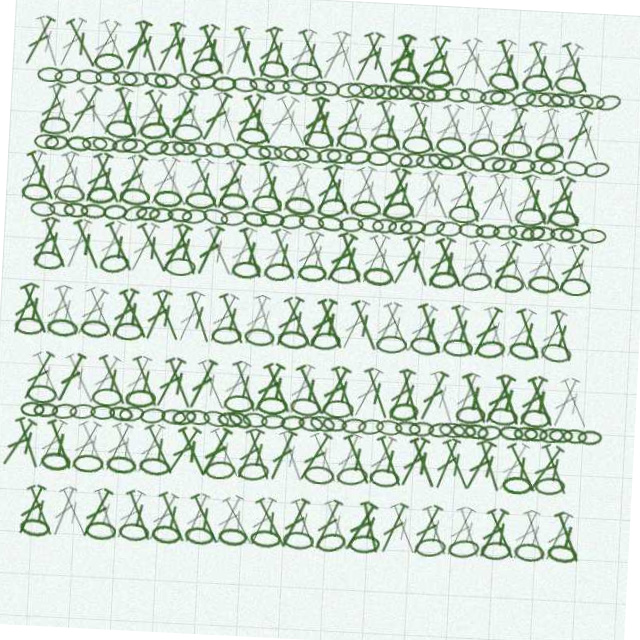chain: (524, 128, 557, 152), (310, 195, 343, 219), (458, 262, 491, 285), (326, 530, 359, 553), (178, 62, 211, 84), (475, 62, 508, 84), (376, 196, 409, 218), (541, 330, 574, 352), (96, 263, 128, 285), (410, 330, 442, 352), (476, 330, 508, 352), (509, 330, 541, 352), (230, 412, 259, 436), (458, 129, 491, 150), (129, 129, 161, 150), (327, 129, 359, 150), (344, 464, 376, 485), (426, 531, 458, 552), (459, 531, 491, 552), (509, 62, 540, 83), (80, 196, 111, 217), (393, 397, 424, 418), (558, 531, 589, 552), (162, 77, 190, 100), (414, 211, 442, 234), (542, 63, 574, 83), (47, 197, 79, 217), (542, 197, 574, 217), (327, 264, 359, 284), (47, 331, 79, 351), (278, 331, 310, 351), (294, 398, 326, 418), (146, 465, 178, 485), (212, 465, 244, 485), (245, 465, 277, 485), (311, 465, 343, 485), (410, 63, 441, 83), (278, 197, 309, 217), (30, 264, 61, 284), (261, 264, 292, 284), (426, 264, 457, 284), (492, 264, 523, 284), (311, 331, 342, 351), (30, 398, 61, 418), (113, 465, 144, 485), (30, 532, 61, 552), (162, 532, 193, 552), (195, 532, 226, 552), (499, 78, 527, 100), (116, 212, 144, 234), (418, 145, 447, 166), (196, 212, 225, 233), (509, 197, 541, 216), (525, 264, 557, 283), (542, 465, 574, 484), (129, 532, 161, 551), (525, 532, 557, 551), (278, 63, 309, 82), (30, 130, 61, 149), (96, 130, 127, 149), (113, 197, 144, 216), (360, 264, 391, 283), (212, 331, 243, 350), (245, 331, 276, 350), (129, 398, 160, 417), (492, 398, 523, 417), (525, 398, 556, 417), (377, 465, 408, 484), (96, 532, 127, 551), (261, 532, 292, 551), (294, 532, 325, 551), (360, 532, 391, 551), (492, 532, 523, 551), (583, 78, 611, 99), (451, 145, 479, 166), (514, 212, 542, 233), (246, 63, 276, 82), (378, 63, 408, 82), (361, 130, 391, 149), (427, 130, 457, 149), (213, 197, 243, 216), (81, 331, 111, 350), (460, 398, 490, 417), (48, 465, 78, 484), (229, 532, 259, 551), (397, 79, 425, 99), (287, 146, 315, 166), (575, 146, 603, 166), (207, 414, 235, 434), (162, 131, 193, 149), (228, 131, 259, 149), (294, 131, 325, 149), (393, 131, 424, 149), (492, 131, 523, 149), (179, 198, 210, 216), (344, 198, 375, 216), (443, 198, 474, 216), (162, 265, 193, 283), (558, 265, 589, 283), (377, 332, 408, 350), (96, 399, 127, 417), (228, 399, 259, 417), (261, 399, 292, 417), (327, 399, 358, 417), (80, 466, 111, 484), (81, 64, 111, 82), (130, 79, 157, 99), (134, 146, 161, 166), (390, 146, 417, 166), (15, 198, 45, 216), (147, 198, 177, 216), (246, 198, 276, 216), (229, 265, 259, 283), (295, 265, 325, 283), (15, 332, 45, 350), (114, 332, 144, 350), (444, 332, 474, 350), (176, 414, 203, 434), (510, 466, 540, 484), (236, 79, 264, 98), (386, 79, 414, 98), (467, 79, 495, 98), (102, 146, 130, 165), (264, 146, 292, 165), (336, 146, 364, 165), (531, 146, 559, 165), (302, 79, 329, 98), (214, 146, 241, 165), (472, 146, 499, 165), (123, 414, 150, 433), (314, 414, 341, 433), (144, 415, 172, 433), (42, 80, 69, 98), (324, 80, 351, 98), (413, 80, 440, 98), (501, 147, 528, 165), (176, 214, 203, 232), (215, 214, 242, 232), (293, 214, 320, 232), (312, 214, 339, 232), (382, 214, 409, 232), (56, 415, 83, 433), (363, 415, 390, 433), (289, 80, 315, 98), (349, 80, 375, 98), (35, 147, 61, 165), (178, 147, 204, 165), (379, 147, 405, 165), (483, 147, 509, 165), (554, 147, 580, 165), (237, 214, 263, 232), (274, 214, 300, 232), (113, 415, 139, 433), (285, 415, 311, 433), (303, 415, 329, 433), (433, 415, 459, 433), (482, 415, 508, 433), (178, 80, 205, 97), (270, 80, 297, 97), (335, 80, 362, 97), (448, 80, 475, 97), (514, 80, 541, 97), (526, 80, 553, 97), (567, 80, 594, 97), (236, 147, 263, 164), (43, 214, 70, 231), (352, 214, 379, 231), (431, 214, 458, 231), (503, 214, 530, 231), (74, 415, 101, 432), (444, 415, 471, 432), (100, 80, 126, 97), (375, 80, 401, 97), (538, 80, 564, 97), (83, 147, 109, 164), (163, 147, 189, 164), (196, 147, 222, 164), (249, 147, 275, 164), (308, 147, 334, 164), (407, 147, 433, 164), (430, 147, 456, 164), (97, 214, 123, 231), (130, 214, 156, 231), (190, 415, 216, 432), (247, 415, 273, 432), (327, 415, 353, 432), (456, 415, 482, 432), (469, 415, 495, 432), (504, 415, 530, 432), (544, 415, 570, 432), (110, 81, 137, 97), (151, 148, 178, 164), (521, 148, 548, 164), (381, 416, 408, 432), (64, 81, 90, 97), (220, 81, 246, 97), (253, 81, 279, 97), (478, 81, 504, 97), (57, 148, 83, 164), (75, 215, 101, 231), (143, 215, 169, 231), (395, 215, 421, 231), (453, 215, 479, 231), (470, 215, 496, 231), (222, 416, 248, 432), (346, 416, 372, 432), (400, 416, 426, 432), (414, 416, 440, 432), (83, 81, 108, 97), (142, 81, 167, 97), (200, 81, 225, 97), (362, 81, 387, 97), (25, 215, 50, 231), (334, 215, 359, 231), (367, 215, 392, 231), (488, 215, 513, 231), (555, 215, 580, 231), (38, 416, 63, 432), (166, 416, 191, 432), (266, 416, 291, 432), (583, 416, 608, 432), (25, 81, 51, 96), (73, 148, 99, 163), (275, 148, 301, 163), (318, 148, 344, 163), (525, 215, 551, 230), (576, 215, 602, 230), (433, 81, 458, 96), (557, 81, 582, 96), (25, 148, 50, 163), (113, 148, 138, 163), (358, 148, 383, 163), (58, 215, 83, 230), (162, 215, 187, 230), (255, 215, 280, 230), (545, 215, 570, 230), (25, 416, 50, 431), (95, 416, 120, 431), (519, 416, 544, 431), (529, 416, 554, 431), (554, 416, 579, 431), (568, 416, 593, 431)
double: (61, 96, 106, 149), (3, 431, 46, 485), (531, 431, 574, 485), (47, 29, 89, 83), (169, 431, 211, 485), (228, 498, 270, 552), (261, 498, 303, 552), (532, 28, 573, 83), (119, 95, 160, 150), (146, 162, 187, 217), (129, 229, 170, 284), (212, 430, 253, 485), (301, 430, 342, 485), (350, 497, 391, 552), (251, 96, 292, 150), (54, 95, 94, 150), (163, 95, 203, 150), (262, 95, 302, 150), (417, 95, 457, 150), (170, 162, 210, 217), (196, 229, 236, 284), (384, 229, 424, 284), (450, 229, 490, 284), (493, 229, 533, 284), (526, 229, 566, 284), (549, 229, 589, 284), (114, 296, 154, 351), (279, 296, 319, 351), (500, 296, 540, 351), (21, 363, 61, 418), (31, 363, 71, 418), (64, 363, 104, 418), (71, 430, 111, 485), (147, 430, 187, 485), (500, 430, 540, 485), (510, 430, 550, 485), (64, 497, 104, 552), (196, 497, 236, 552), (71, 29, 111, 83), (444, 29, 484, 83), (71, 297, 111, 351), (401, 297, 441, 351), (87, 364, 127, 418), (5, 28, 44, 83), (81, 28, 120, 83), (170, 28, 209, 83), (401, 28, 440, 83), (467, 28, 506, 83), (87, 95, 126, 150), (186, 95, 225, 150), (219, 95, 258, 150), (81, 162, 120, 217), (137, 162, 176, 217), (180, 162, 219, 217), (312, 162, 351, 217), (345, 162, 384, 217), (411, 162, 450, 217), (434, 162, 473, 217), (467, 162, 506, 217), (533, 162, 572, 217), (153, 229, 192, 284), (361, 229, 400, 284), (15, 296, 54, 351), (81, 296, 120, 351), (203, 296, 242, 351), (378, 296, 417, 351), (97, 363, 136, 418), (196, 363, 235, 418), (219, 363, 258, 418), (252, 363, 291, 418), (262, 363, 301, 418), (295, 363, 334, 418), (318, 363, 357, 418), (351, 363, 390, 418), (483, 363, 522, 418), (559, 363, 598, 418), (38, 430, 77, 485), (81, 430, 120, 485), (114, 430, 153, 485), (203, 430, 242, 485), (312, 430, 351, 485), (467, 430, 506, 485), (87, 497, 126, 552), (120, 497, 159, 552), (493, 497, 532, 552), (130, 96, 169, 150), (229, 96, 268, 150), (15, 163, 54, 217), (97, 230, 136, 284), (318, 230, 357, 284), (180, 431, 219, 485), (153, 498, 192, 552), (280, 28, 318, 83), (303, 28, 341, 83), (336, 28, 374, 83), (412, 28, 450, 83), (511, 28, 549, 83), (544, 28, 582, 83), (395, 95, 433, 150), (461, 95, 499, 150), (49, 162, 87, 217), (105, 162, 143, 217), (214, 162, 252, 217), (237, 162, 275, 217), (270, 162, 308, 217), (369, 162, 407, 217), (379, 162, 417, 217), (121, 229, 159, 284), (253, 229, 291, 284), (286, 229, 324, 284), (352, 229, 390, 284), (428, 229, 466, 284), (461, 229, 499, 284), (517, 229, 555, 284), (148, 296, 186, 351), (346, 296, 384, 351), (435, 296, 473, 351), (468, 296, 506, 351), (154, 363, 192, 418), (105, 430, 143, 485), (346, 430, 384, 485), (369, 430, 407, 485), (402, 430, 440, 485), (445, 430, 483, 485), (32, 497, 70, 552), (164, 497, 202, 552), (329, 497, 367, 552), (395, 497, 433, 552), (418, 497, 456, 552), (451, 497, 489, 552), (484, 497, 522, 552), (138, 28, 175, 83), (181, 28, 218, 83), (247, 28, 284, 83), (270, 28, 307, 83), (346, 28, 383, 83), (369, 28, 406, 83), (435, 28, 472, 83), (32, 95, 69, 150), (154, 95, 191, 150), (319, 95, 356, 150), (352, 95, 389, 150), (362, 95, 399, 150), (385, 95, 422, 150), (428, 95, 465, 150), (451, 95, 488, 150), (72, 162, 109, 217), (204, 162, 241, 217), (402, 162, 439, 217), (478, 162, 515, 217), (511, 162, 548, 217), (544, 162, 581, 217), (65, 229, 102, 284), (220, 229, 257, 284), (263, 229, 300, 284), (395, 229, 432, 284), (484, 229, 521, 284), (560, 229, 597, 284), (49, 296, 86, 351), (105, 296, 142, 351), (214, 296, 251, 351), (270, 296, 307, 351), (313, 296, 350, 351), (369, 296, 406, 351), (534, 296, 571, 351), (55, 363, 92, 418), (131, 363, 168, 418), (164, 363, 201, 418), (187, 363, 224, 418), (418, 363, 455, 418), (461, 363, 498, 418), (517, 363, 554, 418), (527, 363, 564, 418), (49, 430, 86, 485), (138, 430, 175, 485), (379, 430, 416, 485), (412, 430, 449, 485), (544, 430, 581, 485), (131, 497, 168, 552), (220, 497, 257, 552), (286, 497, 323, 552), (296, 497, 333, 552), (319, 497, 356, 552), (428, 497, 465, 552), (517, 497, 554, 552), (550, 497, 587, 552), (560, 497, 597, 552), (40, 28, 76, 83), (314, 28, 350, 83), (198, 95, 234, 150), (485, 95, 521, 150), (116, 162, 152, 217), (281, 162, 317, 217), (337, 162, 373, 217), (23, 229, 59, 284), (33, 229, 69, 284), (89, 229, 125, 284), (188, 229, 224, 284), (297, 229, 333, 284), (330, 229, 366, 284), (419, 229, 455, 284), (139, 296, 175, 351), (172, 296, 208, 351), (238, 296, 274, 351), (304, 296, 340, 351), (337, 296, 373, 351), (413, 296, 449, 351), (512, 296, 548, 351), (122, 363, 158, 418), (231, 363, 267, 418), (363, 363, 399, 418), (386, 363, 422, 418), (551, 363, 587, 418), (238, 430, 274, 485), (248, 430, 284, 485), (271, 430, 307, 485), (281, 430, 317, 485), (23, 497, 59, 552), (254, 497, 290, 552), (386, 497, 422, 552), (462, 497, 498, 552), (17, 28, 52, 83), (106, 28, 141, 83), (116, 28, 151, 83), (380, 28, 415, 83), (479, 28, 514, 83), (502, 28, 537, 83), (23, 95, 58, 150), (297, 95, 332, 150), (330, 95, 365, 150), (528, 95, 563, 150), (551, 95, 586, 150), (561, 95, 596, 150), (7, 162, 42, 217), (40, 162, 75, 217), (248, 162, 283, 217), (304, 162, 339, 217), (446, 162, 481, 217), (165, 229, 200, 284), (231, 229, 266, 284), (7, 296, 42, 351), (40, 296, 75, 351), (182, 296, 217, 351), (446, 296, 481, 351), (479, 296, 514, 351), (287, 363, 322, 418), (330, 363, 365, 418), (429, 363, 464, 418), (495, 363, 530, 418), (17, 430, 52, 485), (337, 430, 372, 485), (479, 430, 514, 485), (99, 497, 134, 552), (206, 28, 240, 83), (216, 28, 250, 83), (100, 95, 134, 150), (288, 95, 322, 150), (496, 95, 530, 150), (519, 95, 553, 150), (503, 162, 537, 217), (57, 229, 91, 284), (249, 296, 283, 351), (546, 296, 580, 351), (453, 363, 487, 418), (437, 430, 471, 485), (57, 497, 91, 552), (189, 497, 223, 552), (529, 497, 563, 552), (240, 28, 272, 83), (151, 28, 182, 83), (398, 363, 429, 418), (366, 497, 396, 552)
